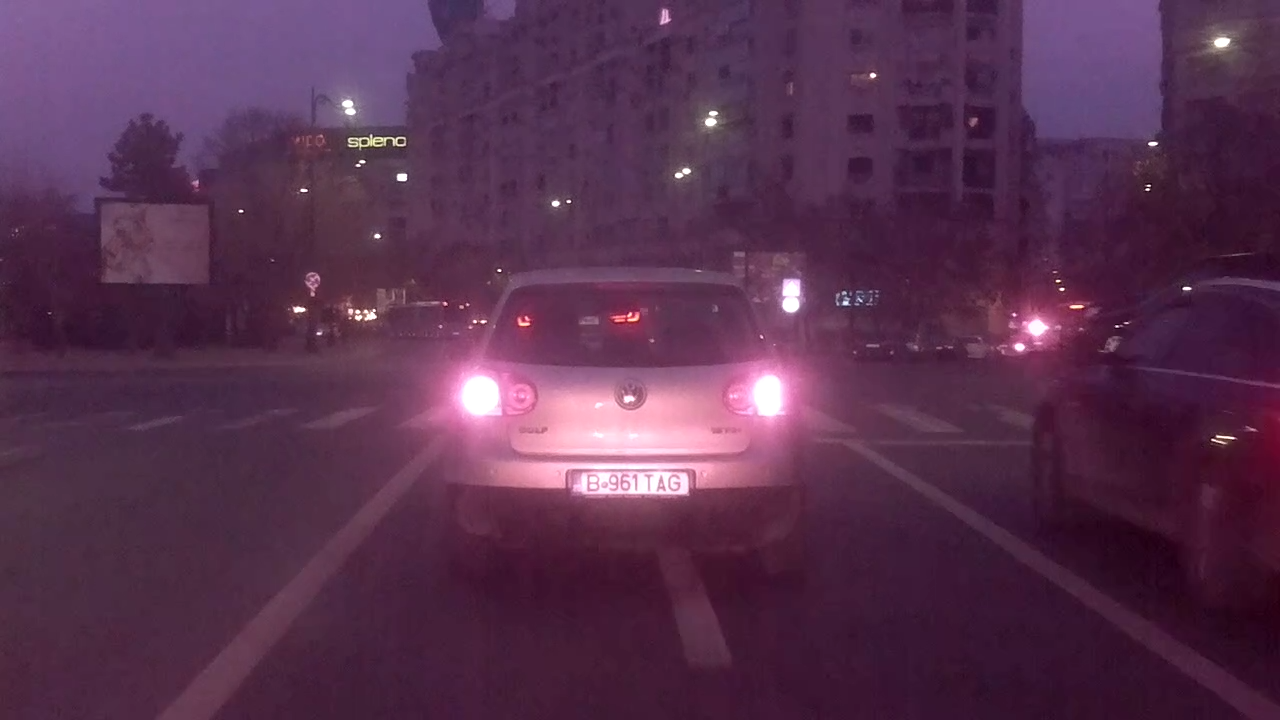license-plate: (566, 466, 693, 498)
